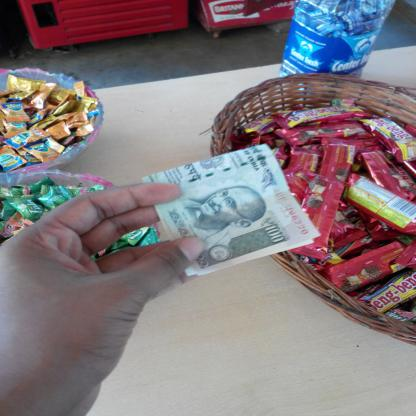Old100Front: (142, 143, 322, 277)
